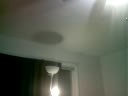window: (5, 1, 114, 96)
